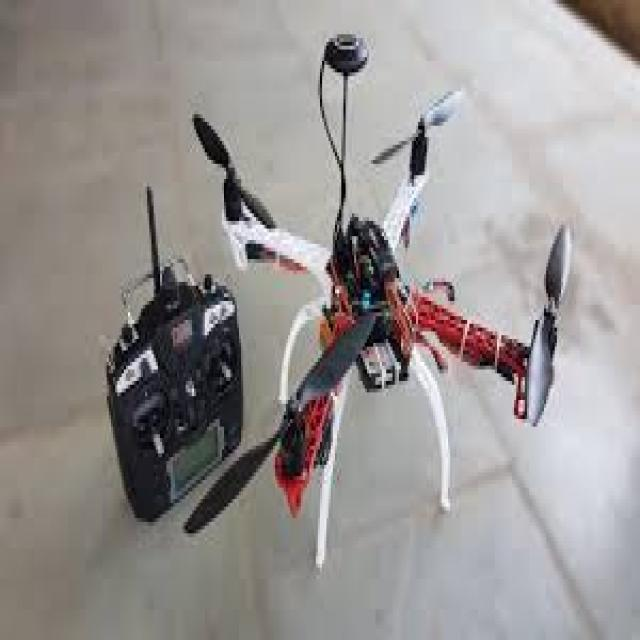drone: (175, 92, 582, 575)
